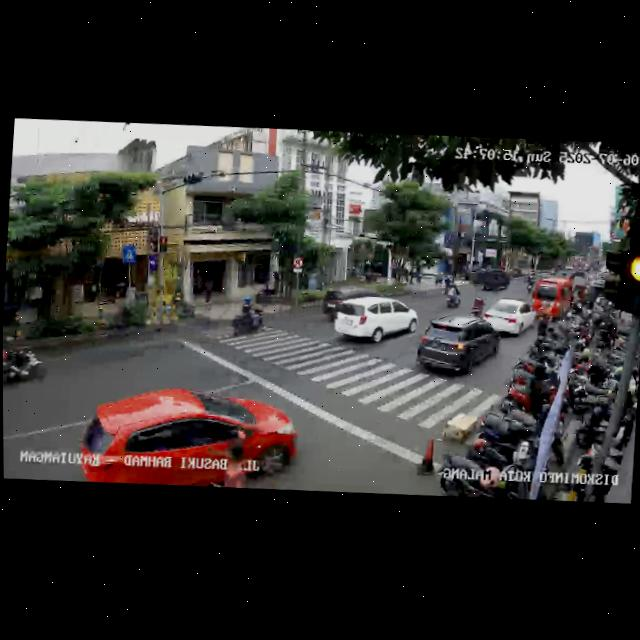car: (75, 378, 296, 496), (411, 311, 501, 381), (331, 290, 419, 351), (480, 295, 538, 341), (318, 285, 378, 328), (531, 273, 578, 322), (474, 266, 511, 295)
motorcycle: (2, 328, 51, 392), (229, 295, 265, 342), (442, 280, 460, 311), (470, 291, 486, 321)
